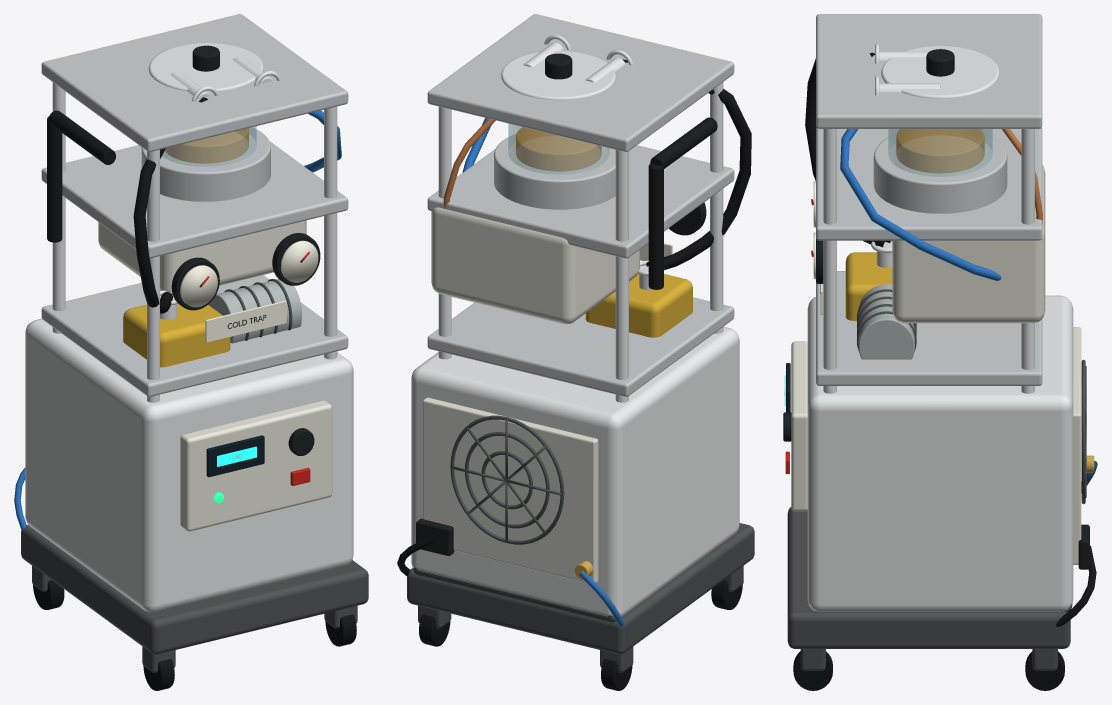
The model's file is vacuum-cold-trap-system.glb.
The picture shows the model from 3 angles, left to right: view 1: azimuth 30°, elevation 25°; view 2: azimuth 150°, elevation 25°; view 3: azimuth 270°, elevation 25°; orthographic projection. The views are drawn at different scales.
Parts seen in each view (by area): view 1: PBR Cool white equipment powder coat, PBR Brushed SUS304 stainless steel, PBR Warm laboratory baked enamel, PBR Dark phosphated service metal, PBR Polished stainless hardware, PBR Generic equipment label stock, PBR Black EPDM isolation rubber, PBR Room 809 aged yellow powder coat, PBR Matte black coated handle, PBR Black engineering polymer, PBR Borosilicate equipment glass, PBR Satin cast aluminum (+3 smaller); view 2: PBR Brushed SUS304 stainless steel, PBR Cool white equipment powder coat, PBR Warm laboratory baked enamel, PBR Dark phosphated service metal, PBR Polished stainless hardware, PBR Black EPDM isolation rubber, PBR Room 809 aged yellow powder coat, PBR Borosilicate equipment glass, PBR Matte black coated handle, PBR Translucent amber oil and bath fluid, PBR Black engineering polymer, PBR Coolant blue hose (+1 smaller); view 3: PBR Cool white equipment powder coat, PBR Brushed SUS304 stainless steel, PBR Warm laboratory baked enamel, PBR Dark phosphated service metal, PBR Polished stainless hardware, PBR Borosilicate equipment glass, PBR Translucent amber oil and bath fluid, PBR Black EPDM isolation rubber, PBR Satin cast aluminum, PBR Coolant blue hose, PBR Room 809 aged yellow powder coat, PBR Black engineering polymer.
Part boxes in pixels (x1=…): PBR Cool white equipment powder coat: x1=25, y1=318, x2=353, y2=612; PBR Brushed SUS304 stainless steel: x1=41, y1=14, x2=348, y2=396; PBR Warm laboratory baked enamel: x1=98, y1=220, x2=332, y2=531; PBR Dark phosphated service metal: x1=21, y1=279, x2=368, y2=672; PBR Polished stainless hardware: x1=52, y1=43, x2=337, y2=402; PBR Generic equipment label stock: x1=180, y1=240, x2=318, y2=459; PBR Black EPDM isolation rubber: x1=33, y1=97, x2=356, y2=690; PBR Room 809 aged yellow powder coat: x1=123, y1=303, x2=230, y2=367; PBR Matte black coated handle: x1=47, y1=110, x2=115, y2=242; PBR Black engineering polymer: x1=171, y1=45, x2=320, y2=455; PBR Borosilicate equipment glass: x1=162, y1=126, x2=256, y2=166; PBR Satin cast aluminum: x1=208, y1=279, x2=301, y2=343; PBR Brushed SUS304 stainless steel: x1=427, y1=14, x2=734, y2=396; PBR Cool white equipment powder coat: x1=411, y1=326, x2=739, y2=617; PBR Warm laboratory baked enamel: x1=423, y1=207, x2=639, y2=582; PBR Dark phosphated service metal: x1=407, y1=415, x2=754, y2=672; PBR Polished stainless hardware: x1=438, y1=34, x2=723, y2=402; PBR Black EPDM isolation rubber: x1=397, y1=59, x2=751, y2=690; PBR Room 809 aged yellow powder coat: x1=585, y1=274, x2=692, y2=337; PBR Borosilicate equipment glass: x1=508, y1=123, x2=609, y2=174; PBR Matte black coated handle: x1=648, y1=117, x2=717, y2=289; PBR Translucent amber oil and bath fluid: x1=516, y1=127, x2=601, y2=171; PBR Black engineering polymer: x1=416, y1=53, x2=706, y2=555; PBR Coolant blue hose: x1=462, y1=118, x2=624, y2=626; PBR Cool white equipment powder coat: x1=807, y1=295, x2=1073, y2=611; PBR Brushed SUS304 stainless steel: x1=816, y1=14, x2=1042, y2=385; PBR Warm laboratory baked enamel: x1=791, y1=165, x2=1081, y2=564; PBR Dark phosphated service metal: x1=787, y1=289, x2=1086, y2=670; PBR Polished stainless hardware: x1=823, y1=43, x2=1034, y2=393; PBR Borosilicate equipment glass: x1=888, y1=129, x2=992, y2=176; PBR Translucent amber oil and bath fluid: x1=896, y1=129, x2=984, y2=173; PBR Black EPDM isolation rubber: x1=793, y1=52, x2=1096, y2=690; PBR Satin cast aluminum: x1=858, y1=284, x2=914, y2=359; PBR Coolant blue hose: x1=840, y1=129, x2=1097, y2=493; PBR Room 809 aged yellow powder coat: x1=845, y1=252, x2=892, y2=320; PBR Black engineering polymer: x1=783, y1=49, x2=1089, y2=569.
Size of the model in its own units: 0.5 by 1.15 by 0.55.
